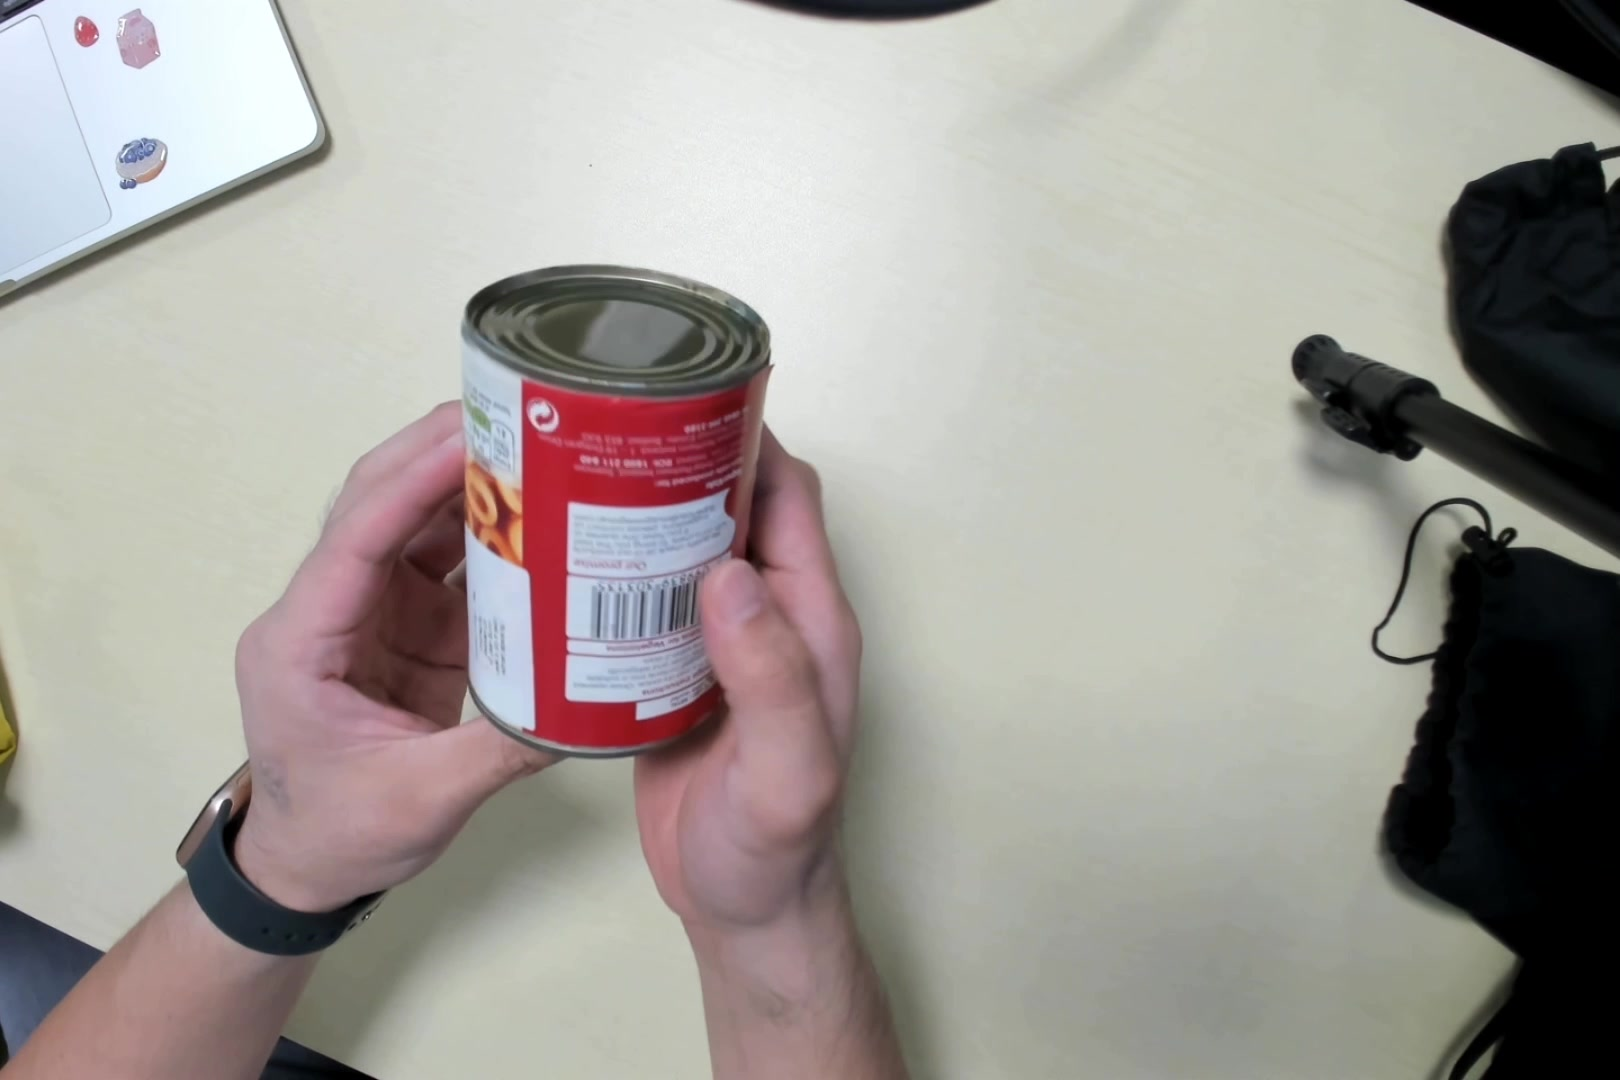InstantMeals_400-499g_NonHalal_NonHealthy: (462, 274, 749, 763)
